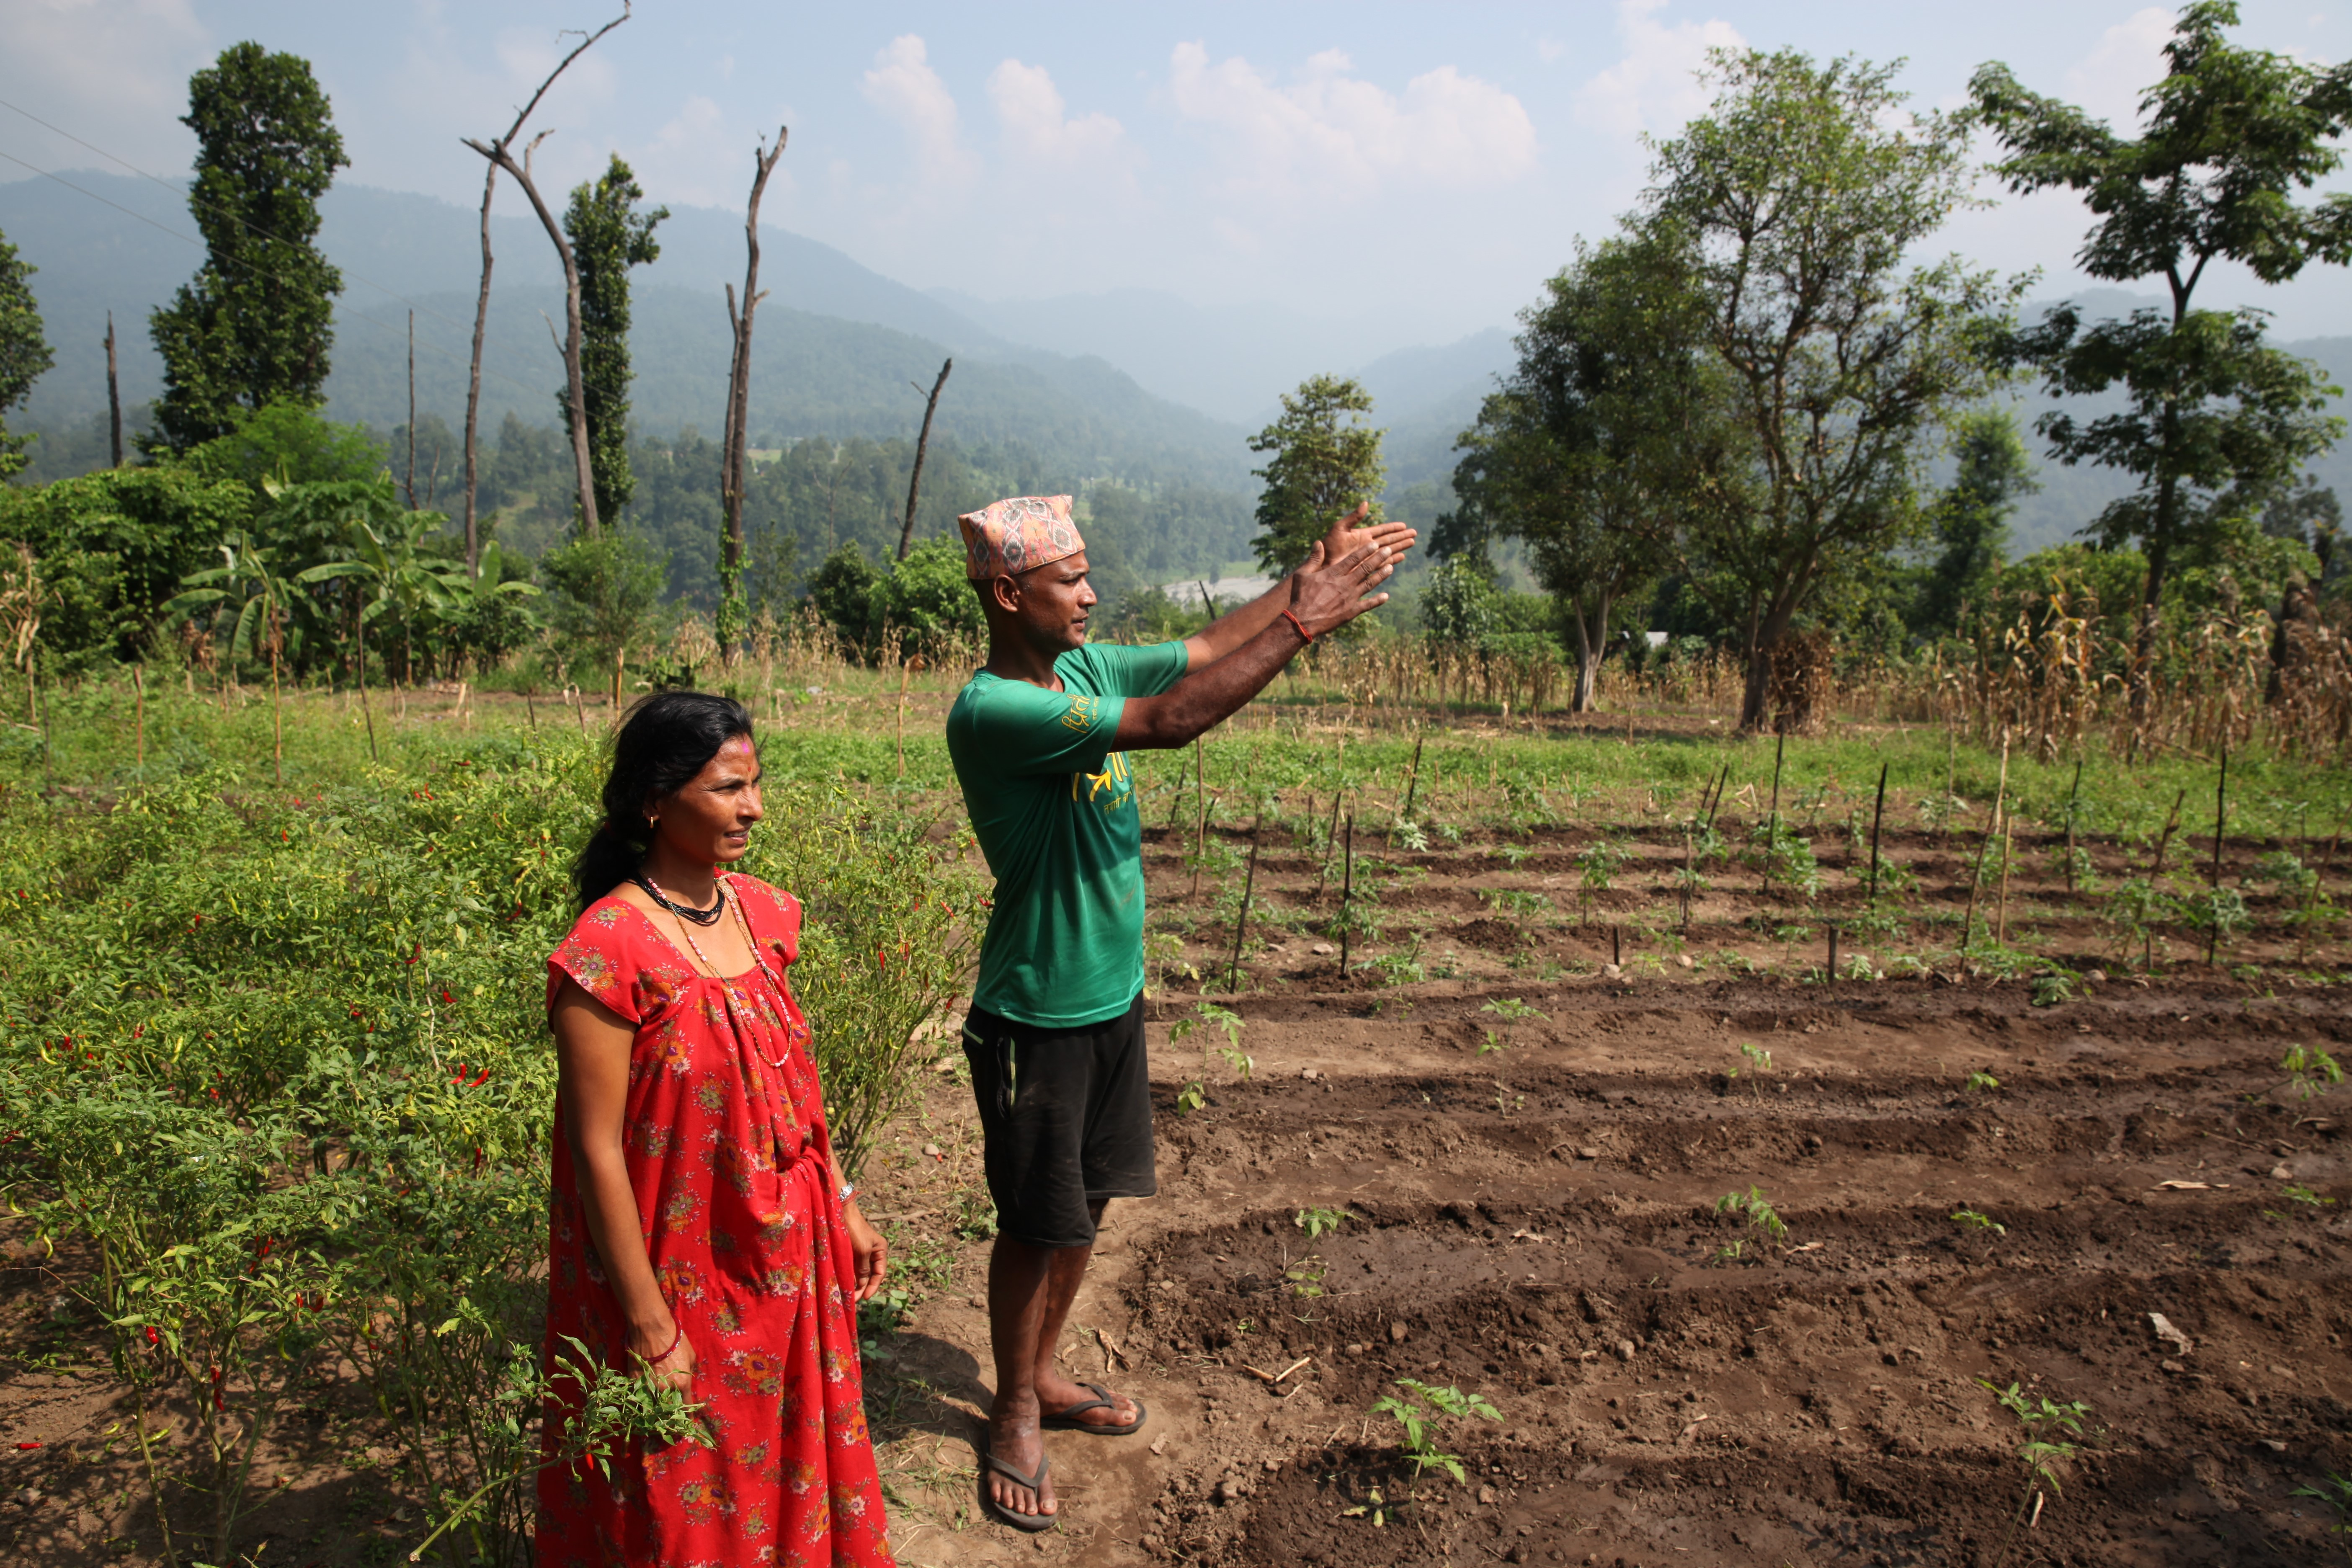human: (944, 473, 1416, 1549), (525, 692, 907, 1568)
